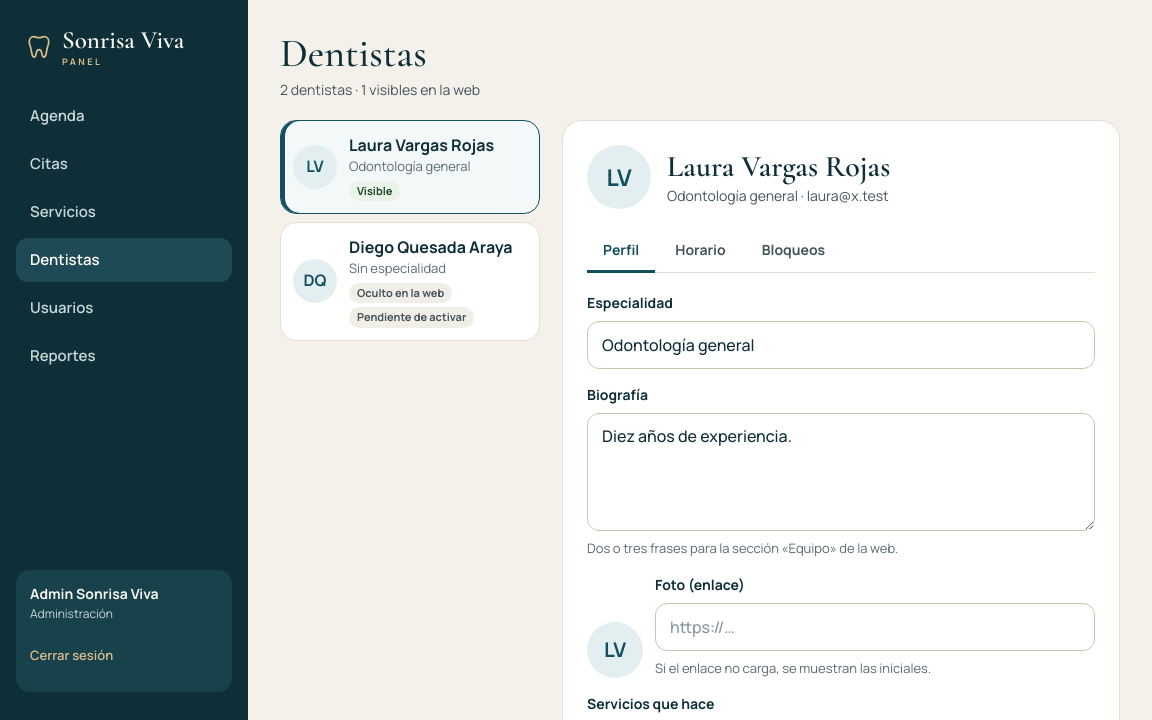
Test: Dentistas › bloqueos lista los próximos y quita con confirmación
The image size is (1152, 720).
Step 1. Click the tab "Bloqueos" → (793, 251), box [746, 229, 841, 273]
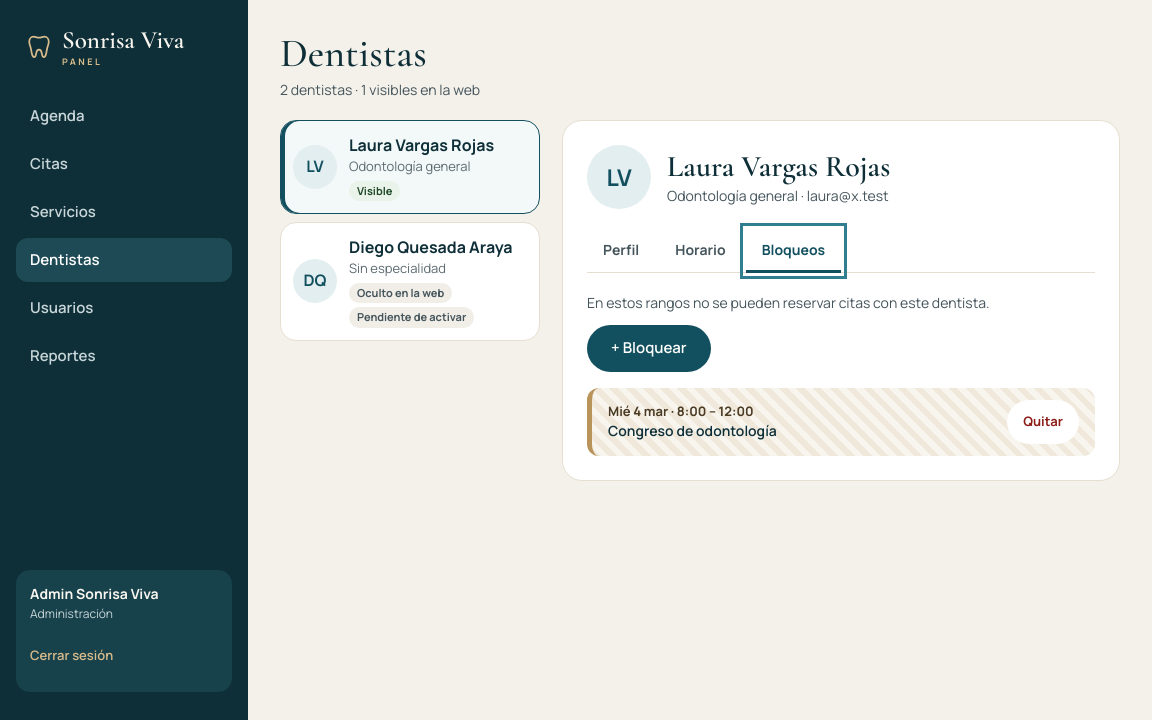
Now the text "Congreso de odontología" is shown, box [608, 421, 777, 441]
Step 2. Click the button with aria-label "Quitar bloqueo Congreso de odontología" → (1043, 422), box [1007, 400, 1079, 444]
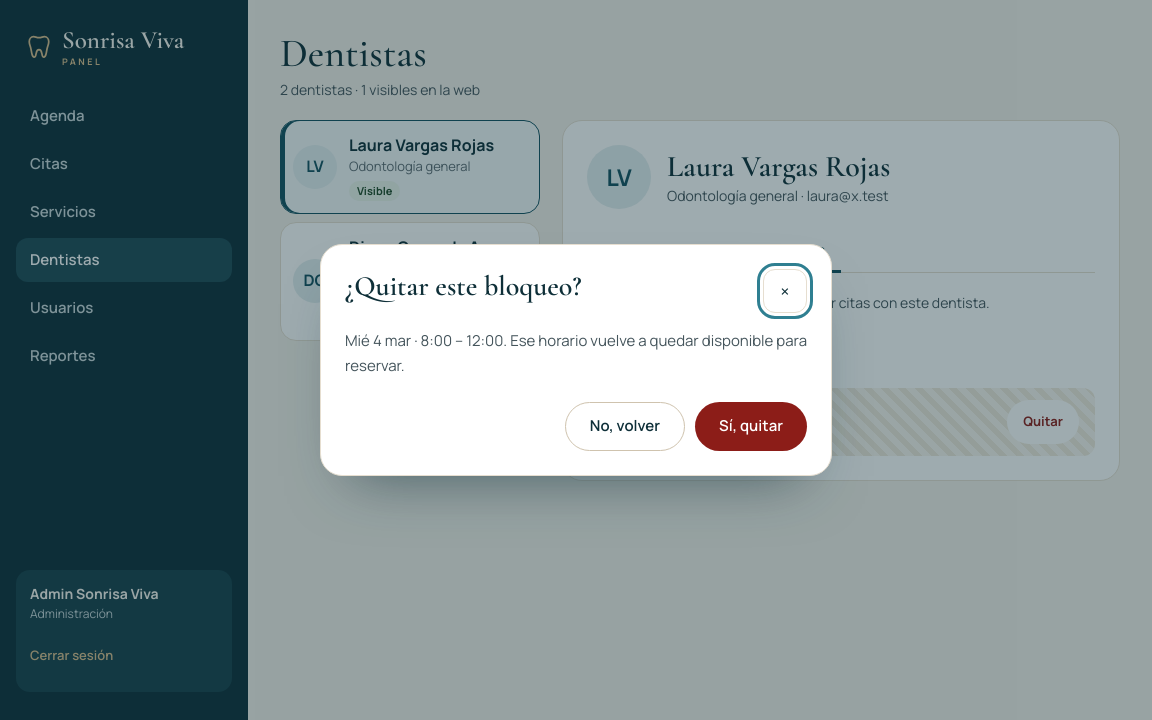
Step 3. Click the button "Sí, quitar" → (751, 426), box [695, 402, 807, 451]
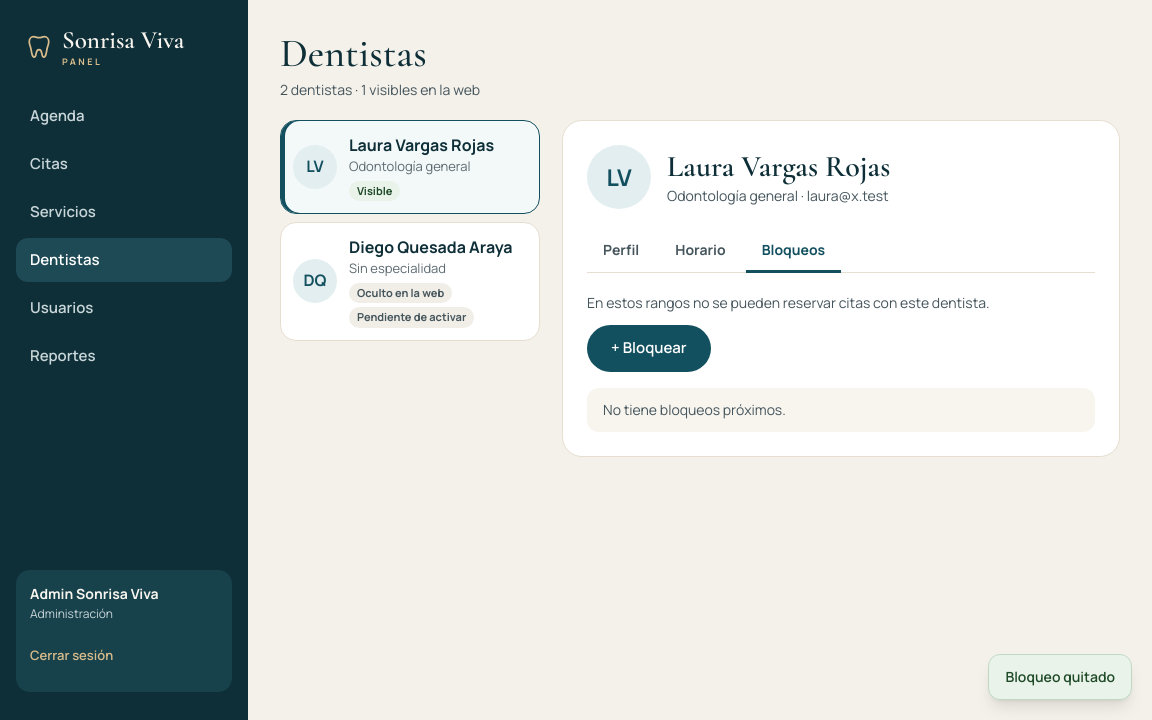
Now the text "Congreso de odontología" is gone
Now the text "No tiene bloqueos próximos." is shown, box [587, 388, 1095, 432]
